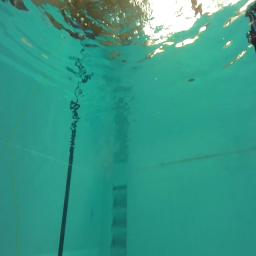Full: (246, 24, 256, 51)
